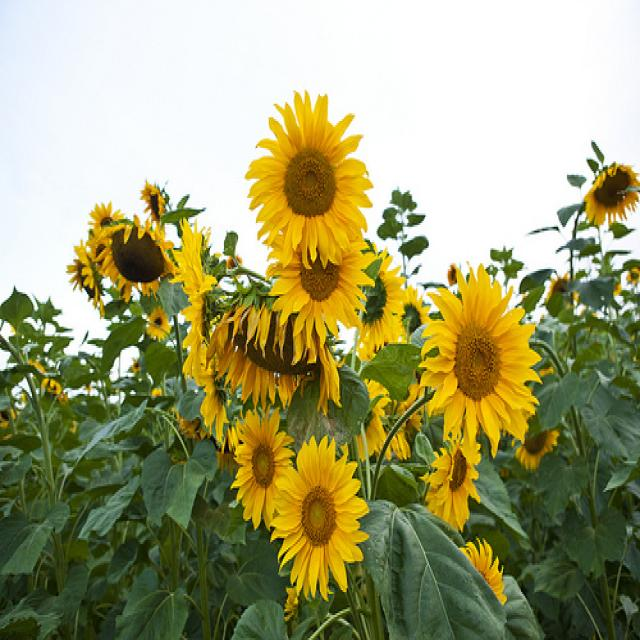sunflower: (240, 83, 381, 266), (425, 266, 542, 449), (274, 444, 369, 590), (232, 414, 298, 529), (424, 431, 491, 537), (96, 221, 174, 293), (579, 153, 640, 231)
